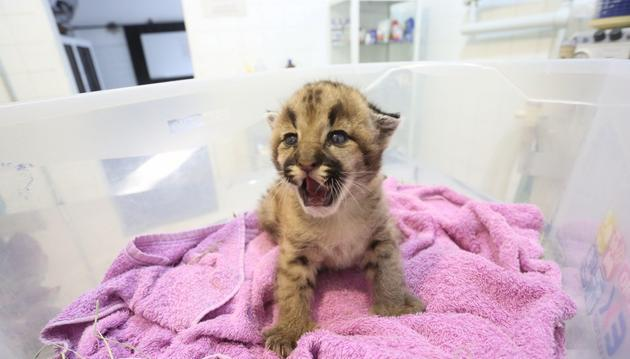OncaParda: (248, 77, 425, 355)
